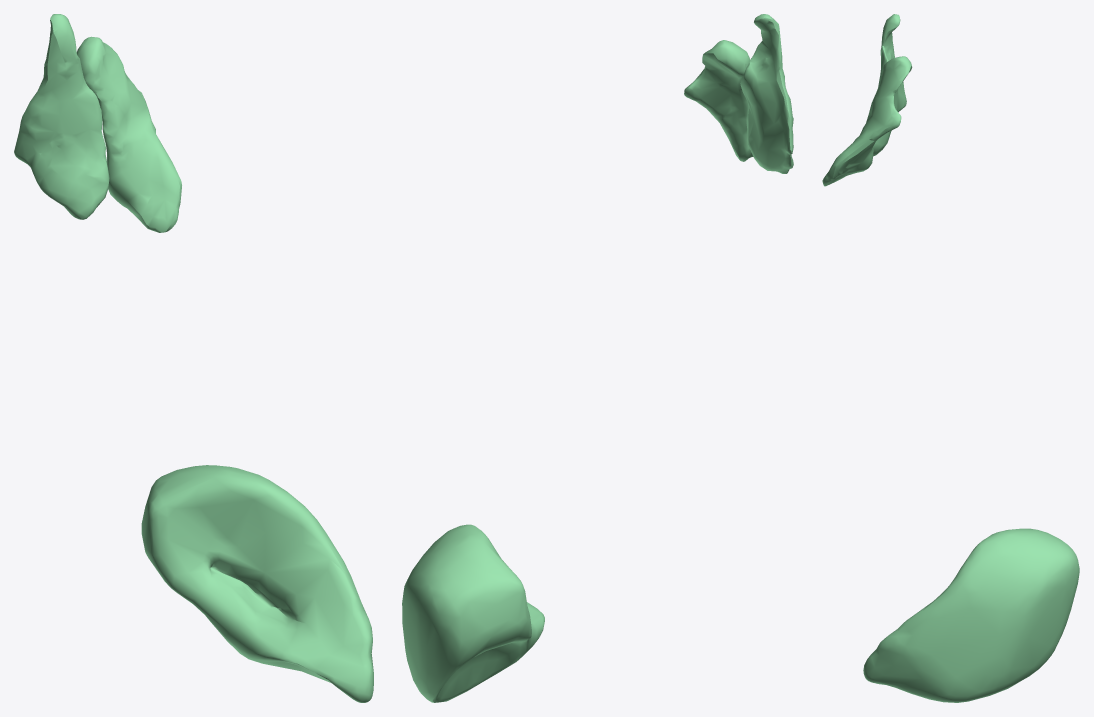
File: male-lymphatic.glb
3 renders of one model, left to right at view 1: azimuth 30°, elevation 25°; view 2: azimuth 150°, elevation 25°; view 3: azimuth 270°, elevation 25°, orthographic. The views are drawn at different scales.
Parts seen in each view (by area): view 1: FJ2561, FJ3151, FJ3150; view 2: FJ2561, FJ3151, FJ3150; view 3: FJ2561, FJ3150, FJ3151.
Part boxes in pixels (x1,y1,x2,y2): FJ2561: (141,465,373,702); FJ3151: (14,14,109,219); FJ3150: (76,36,181,232); FJ2561: (402,524,544,702); FJ3151: (740,14,793,173); FJ3150: (684,40,753,161); FJ2561: (863,528,1079,702); FJ3150: (822,56,912,186); FJ3151: (873,14,906,156).
Bounding box in the file's own units: 0.1386 × 0.2781 × 0.1131.
